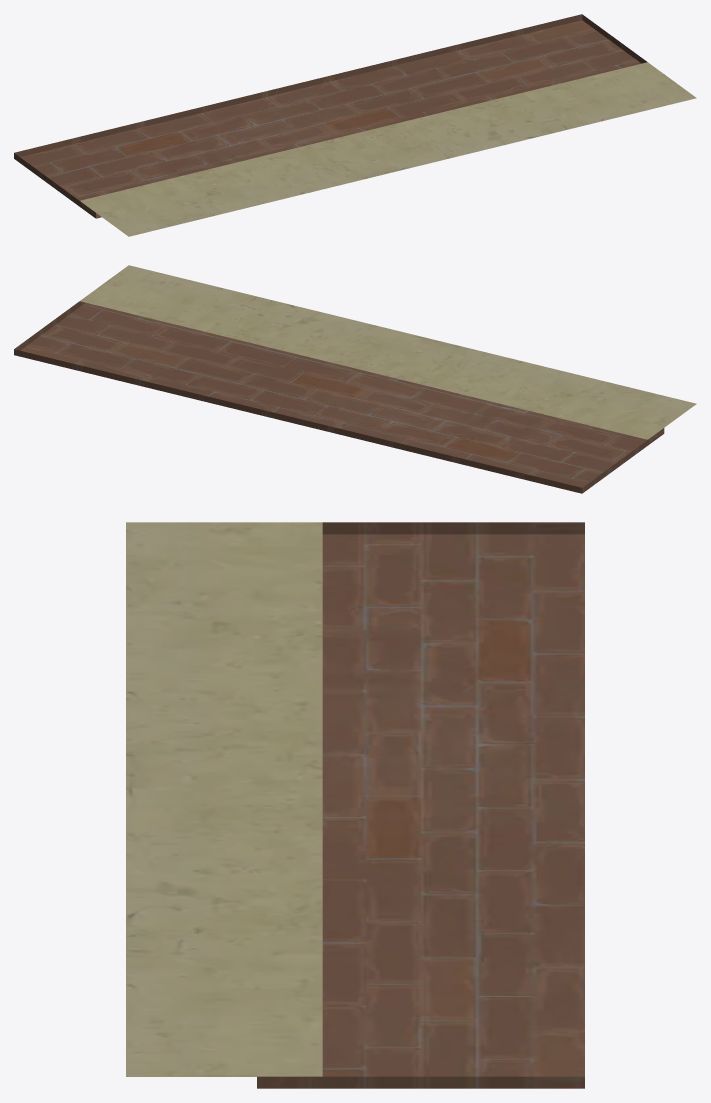
File: Trim_90Angle_TopCover.glb
The picture shows the model from 3 angles, top to bottom: view 1: azimuth 30°, elevation 25°; view 2: azimuth 150°, elevation 25°; view 3: azimuth 270°, elevation 25°; orthographic projection. The views are drawn at different scales.
Visible parts, largest first — view 1: Trim_90Angle_TopCover; view 2: Trim_90Angle_TopCover; view 3: Trim_90Angle_TopCover.
Part boxes in pixels (bbox=[...]): Trim_90Angle_TopCover: bbox=[14, 14, 696, 236]; Trim_90Angle_TopCover: bbox=[14, 265, 696, 493]; Trim_90Angle_TopCover: bbox=[126, 522, 584, 1088].
Size of the model in its own units: 2 by 0.02 by 0.6999.
2 materials, 2 textured.
